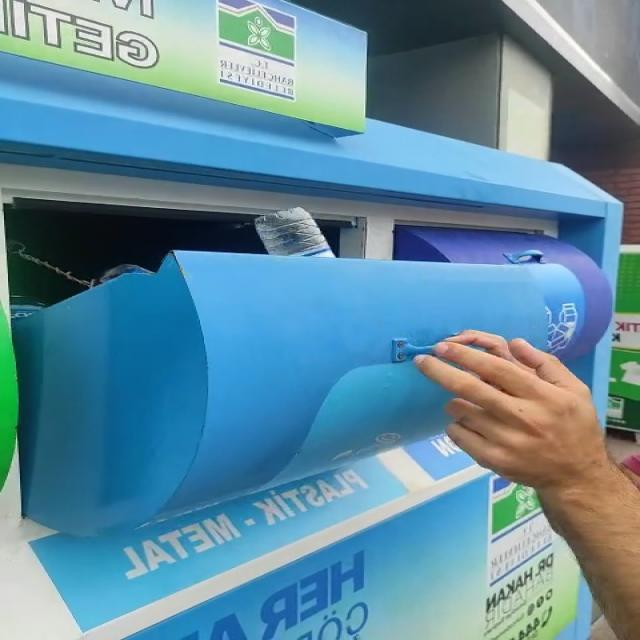Plastic: (255, 207, 335, 258)
